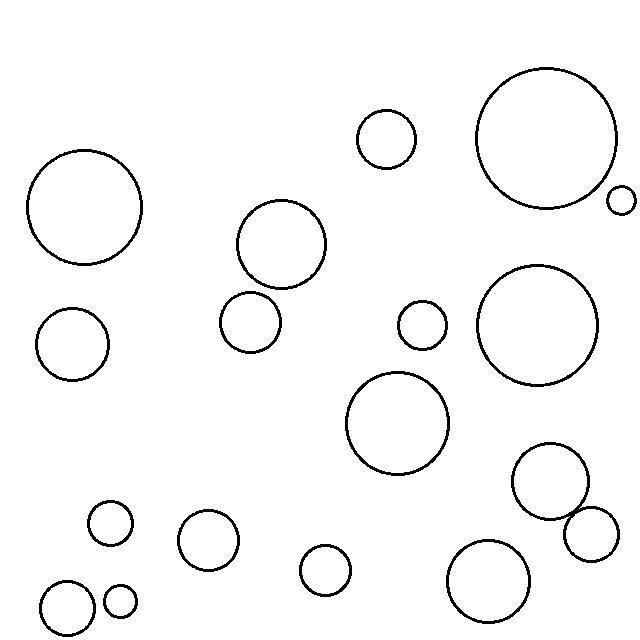circle: (470, 64, 621, 212), (473, 263, 604, 390), (27, 147, 145, 269), (342, 369, 453, 479), (233, 197, 330, 291), (444, 536, 535, 627), (508, 438, 593, 522), (33, 303, 114, 383), (174, 506, 242, 574), (353, 106, 420, 174), (216, 291, 286, 355), (562, 505, 623, 565), (36, 580, 99, 637), (299, 542, 354, 599), (395, 297, 450, 352), (85, 497, 137, 549), (103, 578, 140, 621), (606, 181, 636, 219)
